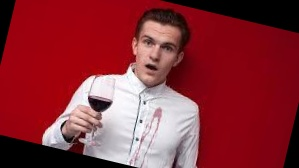wine: (132, 126, 149, 168), (147, 105, 165, 136), (140, 131, 155, 168), (124, 143, 142, 166)
